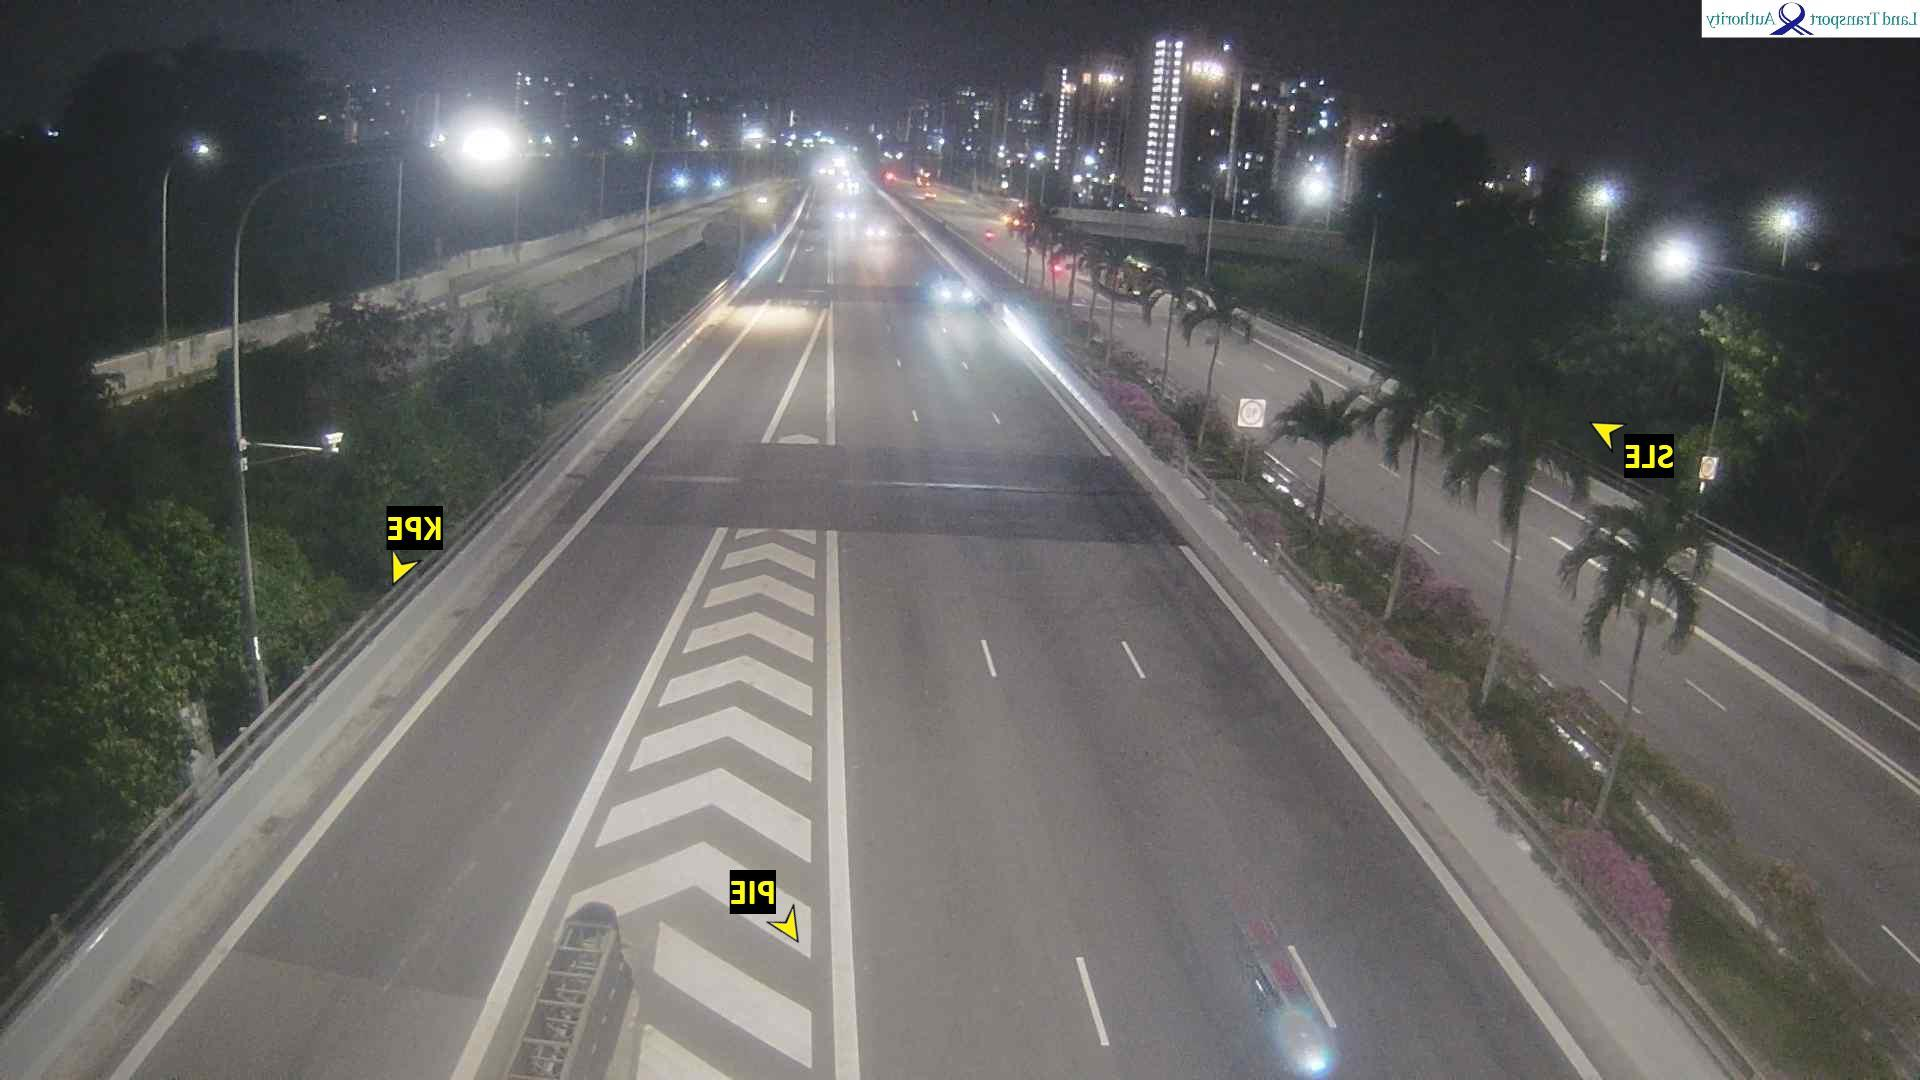cars: (926, 269, 982, 311), (864, 215, 895, 243), (915, 169, 938, 200), (837, 174, 862, 196), (833, 200, 860, 222), (882, 167, 895, 185)
motorcycle: (1232, 911, 1341, 1077), (980, 219, 1000, 247), (1050, 251, 1069, 276)
trucks: (506, 899, 637, 1077)
